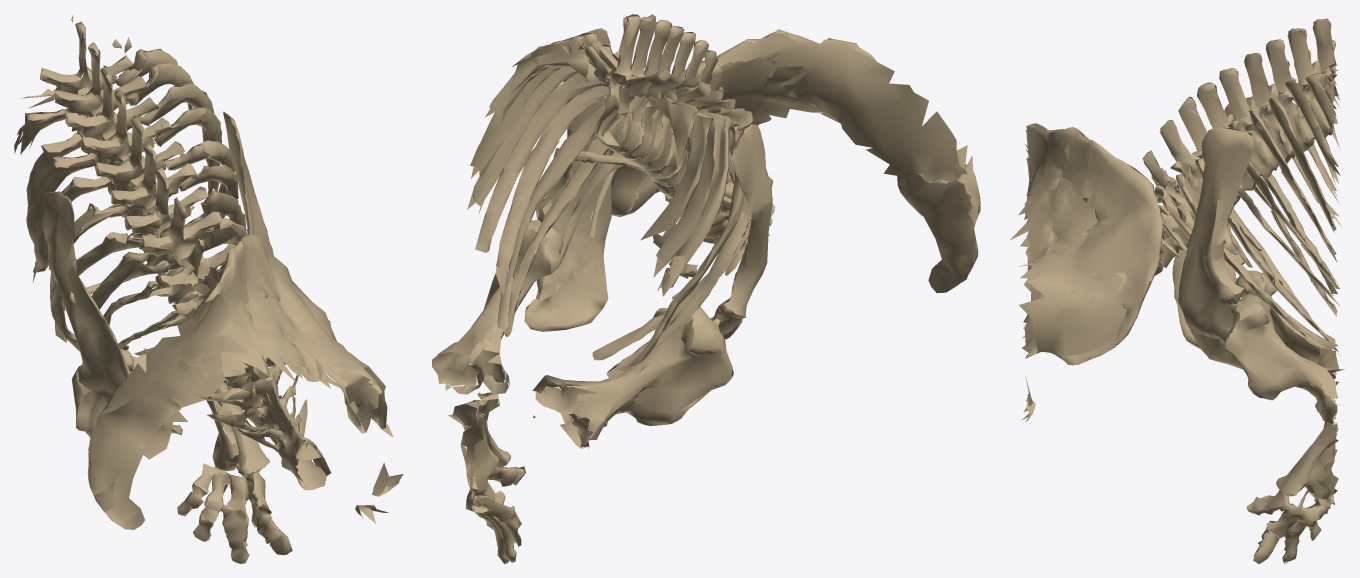
Rendered from FossilScan2.glb.
The picture shows the model from 3 angles, left to right: view 1: azimuth 30°, elevation 25°; view 2: azimuth 150°, elevation 25°; view 3: azimuth 270°, elevation 25°; orthographic projection. The views are drawn at different scales.
Parts seen in each view (by area): view 1: FossilScan2; view 2: FossilScan2; view 3: FossilScan2.
Boxes of the visible parts, bbox=[...] form: FossilScan2: bbox=[14, 15, 403, 563]; FossilScan2: bbox=[432, 14, 980, 563]; FossilScan2: bbox=[1010, 18, 1344, 563].
Bounding box in the file's own units: 10.5 × 16.8 × 10.44.
